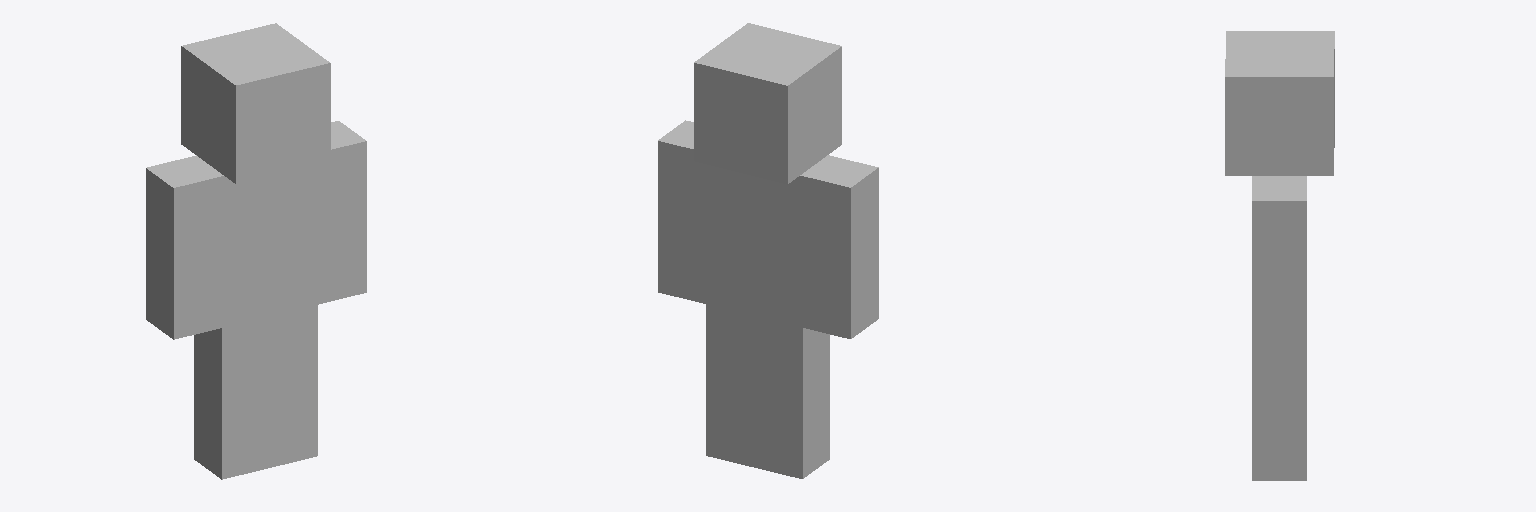
File: player.obj
3 views of the same model, side by side, from view 1: azimuth 30°, elevation 25°; view 2: azimuth 150°, elevation 25°; view 3: azimuth 270°, elevation 25° (orthographic).
Parts seen in each view (by area): view 1: head, torso, arm_r, leg_r, arm_l, leg_l; view 2: head, torso, arm_r, leg_r, arm_l, leg_l; view 3: head, arm_l, leg_l.
Boxes of the visible parts, box(x1,y1,x2,y2) form: head: box(181, 23, 330, 183); torso: box(195, 155, 317, 327); arm_r: box(146, 156, 221, 339); leg_r: box(194, 316, 269, 479); arm_l: box(318, 121, 366, 304); leg_l: box(270, 305, 317, 467); head: box(694, 23, 841, 184); torso: box(706, 155, 829, 327); arm_r: box(803, 156, 878, 338); leg_r: box(754, 316, 829, 478); arm_l: box(658, 120, 705, 303); leg_l: box(706, 304, 753, 466); head: box(1225, 31, 1334, 175); arm_l: box(1252, 178, 1306, 352); leg_l: box(1252, 353, 1306, 480).
Bounding box in the file's own units: 16 × 31.9 × 7.87.